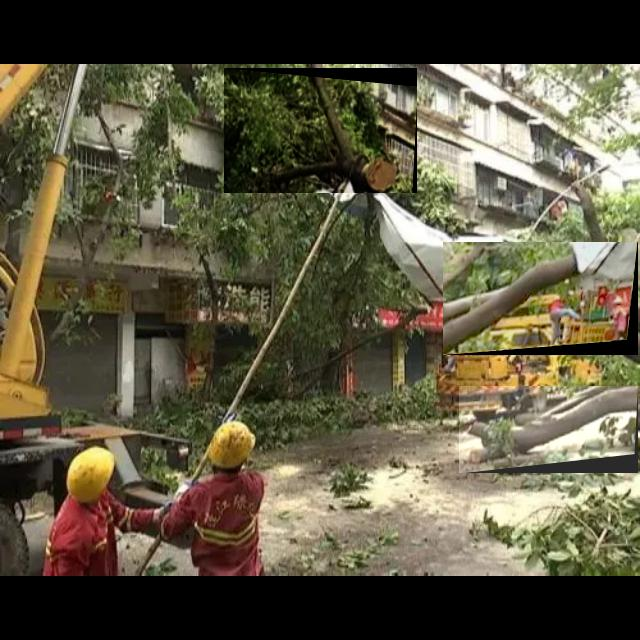Fallen Tree: (224, 68, 418, 194), (443, 242, 639, 356), (459, 386, 639, 474)
